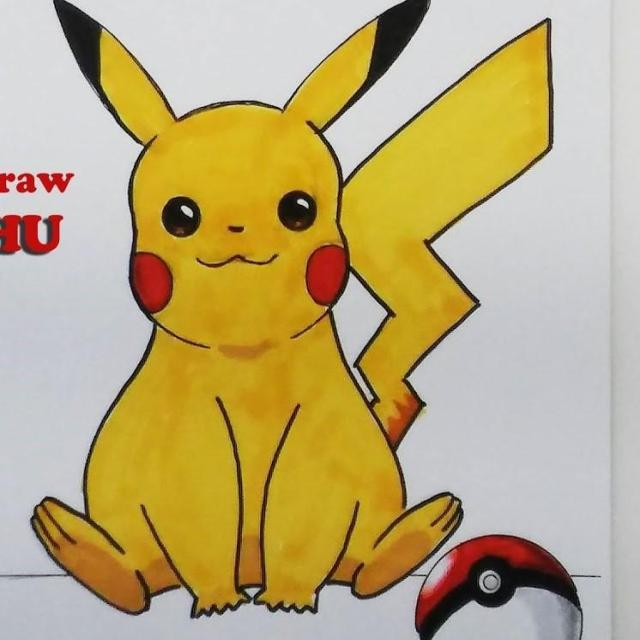pikachu: (32, 0, 554, 618)
